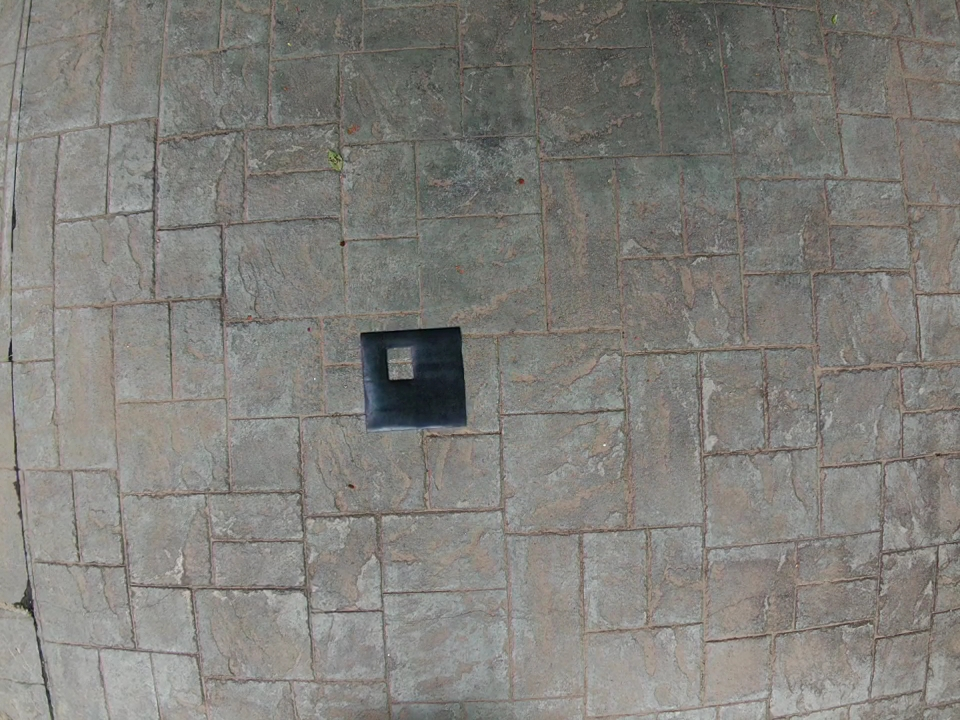qrcode: (360, 327, 466, 429)
